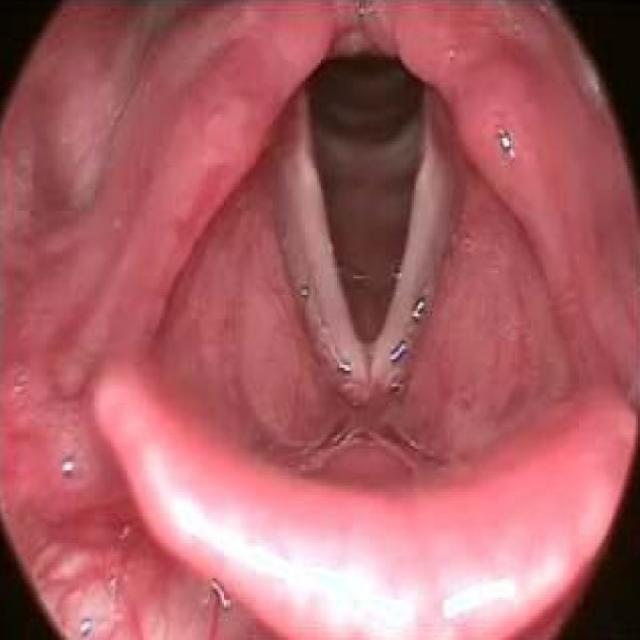arytenoid cartilagerotation: (155, 2, 571, 310)
epiglottisrotation: (88, 355, 638, 637)
larynxrotation: (272, 97, 459, 410)
